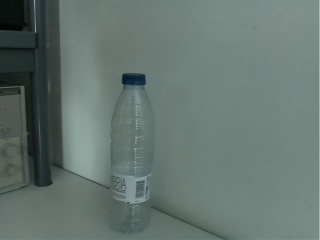botella plastico: (108, 71, 153, 234)
